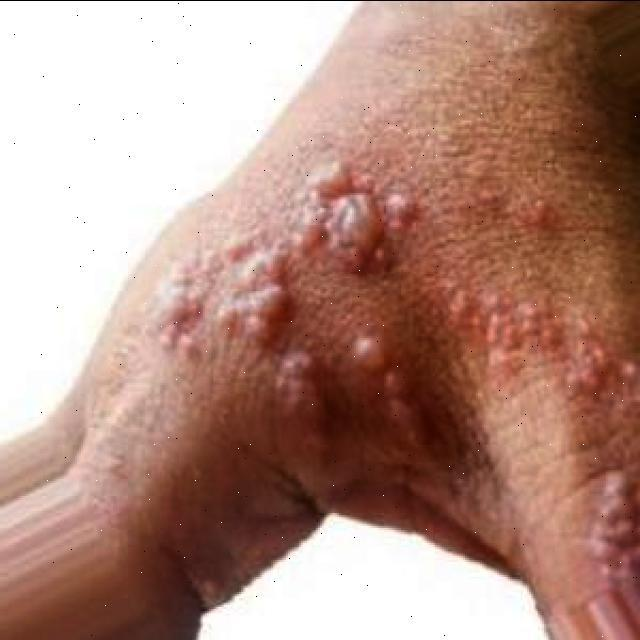Shingles: (149, 158, 417, 356), (432, 268, 640, 407), (344, 329, 442, 462), (594, 464, 640, 573), (271, 350, 326, 434)
